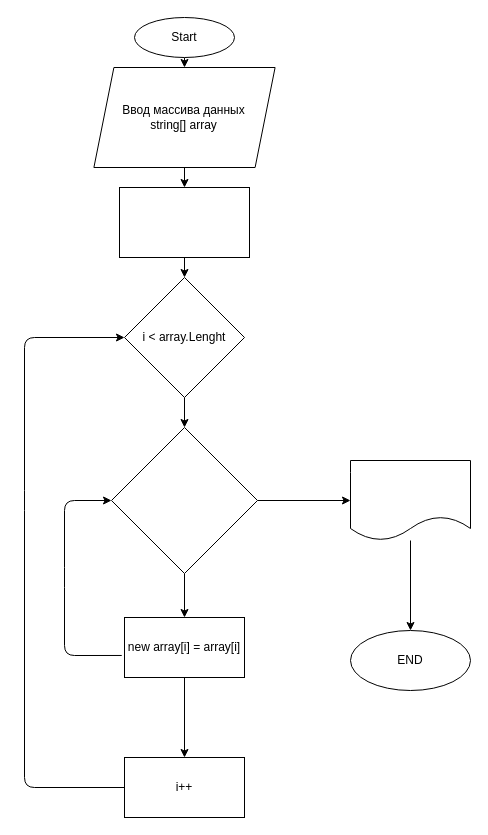
This 488x835 diagram has some shape labels left out. Each missing label, with the centre of its shape:
"array[i].Length <= 3" goes at pixel 184 500.
"вывод new array[]" goes at pixel 410 500.
"создать пустой массив string[] new array i = 0" goes at pixel 184 222.
